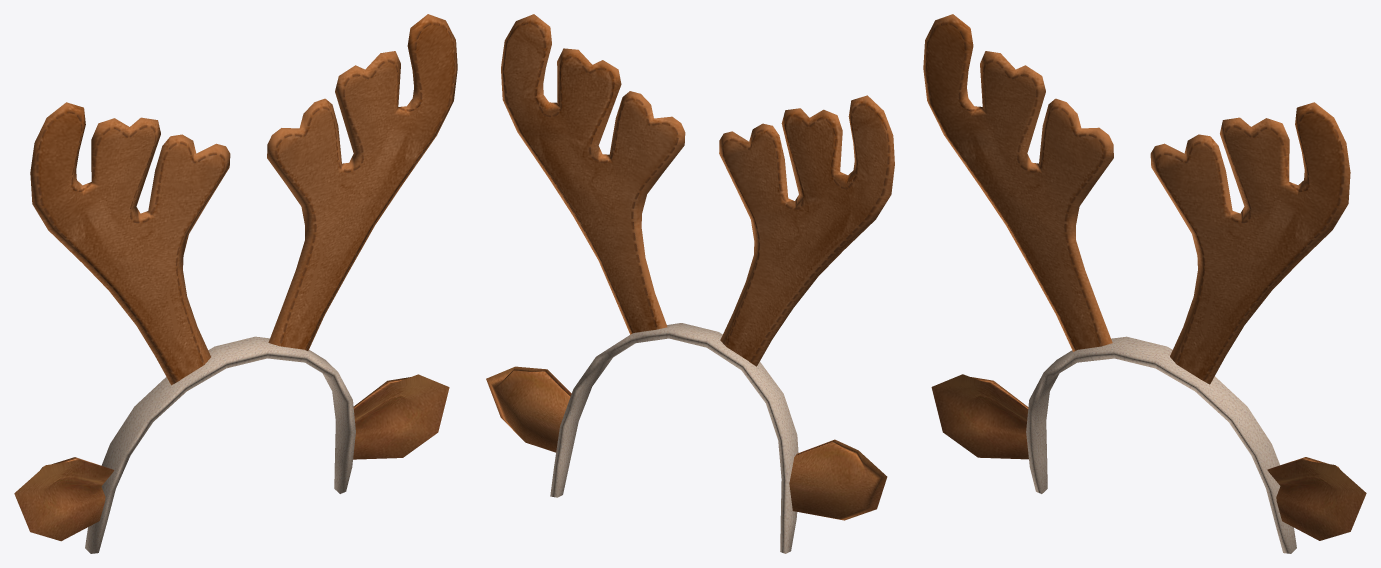
Rendered from maya2sketchfab.fbx.
3 views of the same model, side by side, from view 1: azimuth 30°, elevation 25°; view 2: azimuth 150°, elevation 25°; view 3: azimuth 330°, elevation 25° (orthographic). The views are drawn at different scales.
Visible parts, largest first — view 1: horns; view 2: horns; view 3: horns.
Boxes of the visible parts, x1,y1,x2,y2 form: horns: [14, 14, 457, 553]; horns: [486, 14, 894, 553]; horns: [923, 14, 1366, 553].
Bounding box in the file's own units: 0.327 × 0.349 × 0.0505.
1 material, 1 textured.
